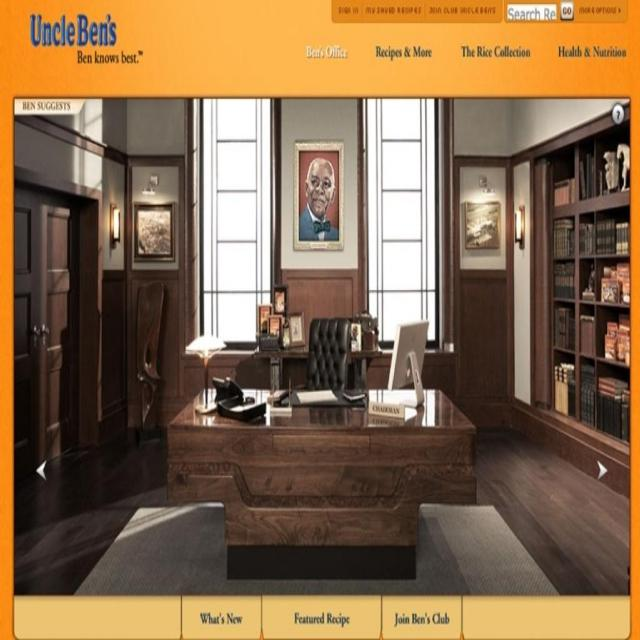table: (134, 362, 504, 572)
